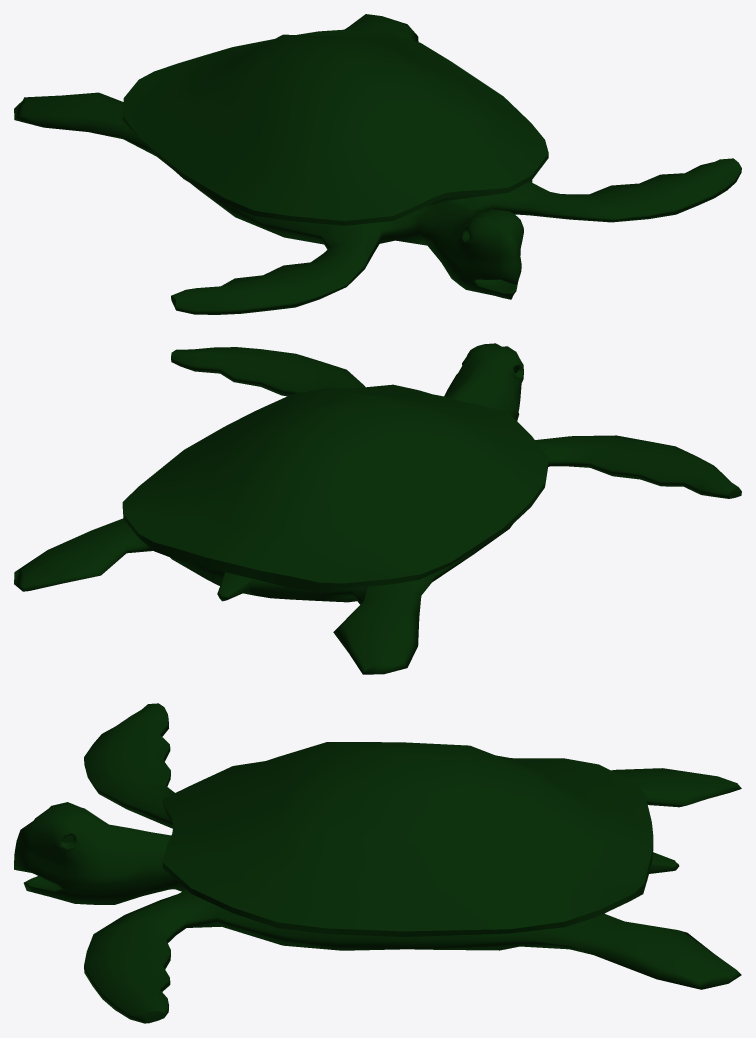
Rendered from TurtleSkinMesh.obj.
3 renders of one model, top to bottom at view 1: azimuth 30°, elevation 25°; view 2: azimuth 150°, elevation 25°; view 3: azimuth 270°, elevation 25°, orthographic. The views are drawn at different scales.
Parts seen in each view (by area): view 1: TurtleMesh SkinMeshes Geometry; view 2: TurtleMesh SkinMeshes Geometry; view 3: TurtleMesh SkinMeshes Geometry.
Boxes of the visible parts, left/top/right/bottom form: TurtleMesh SkinMeshes Geometry: left=14, top=14, right=741, bottom=314; TurtleMesh SkinMeshes Geometry: left=14, top=343, right=741, bottom=674; TurtleMesh SkinMeshes Geometry: left=14, top=703, right=741, bottom=1023.
Bounding box in the file's own units: 20.82 × 4.91 × 20.64.
